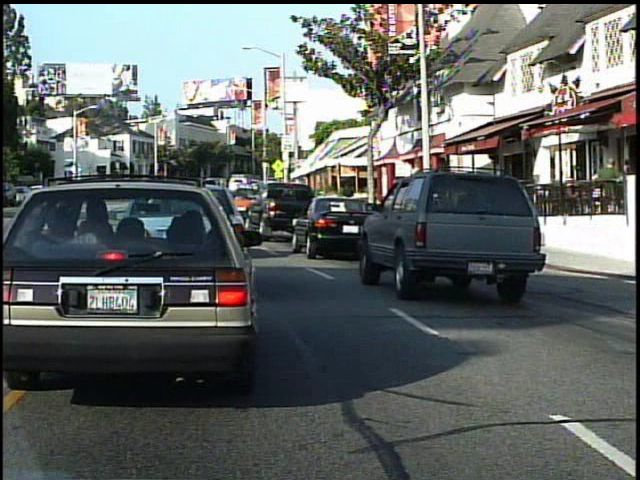person: (591, 151, 625, 234)
